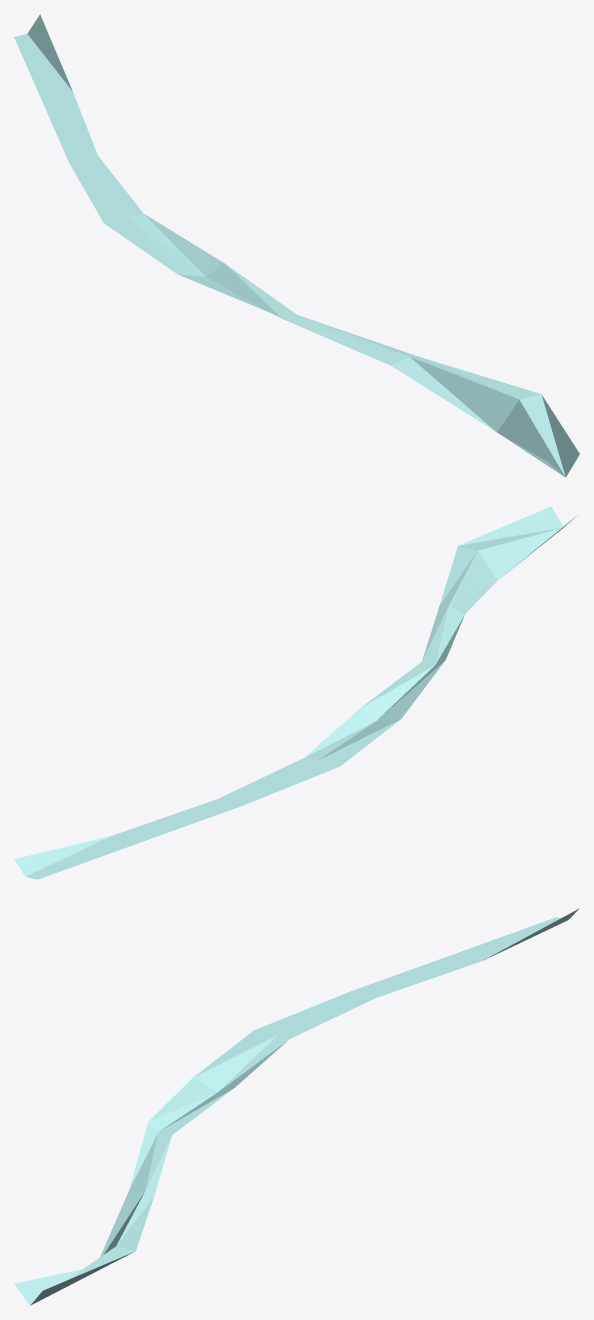
The model's file is current03.fbx.
3 views of the same model, one above another, from view 1: azimuth 30°, elevation 25°; view 2: azimuth 150°, elevation 25°; view 3: azimuth 330°, elevation 25° (orthographic). The views are drawn at different scales.
Parts seen in each view (by area): view 1: obj0.194; view 2: obj0.194; view 3: obj0.194.
Part boxes in pixels (x1,y1,x2,y2): obj0.194: (14, 14, 579, 477); obj0.194: (14, 506, 578, 879); obj0.194: (14, 908, 579, 1305).
Bounding box in the file's own units: 3 × 0.8275 × 19.31.
